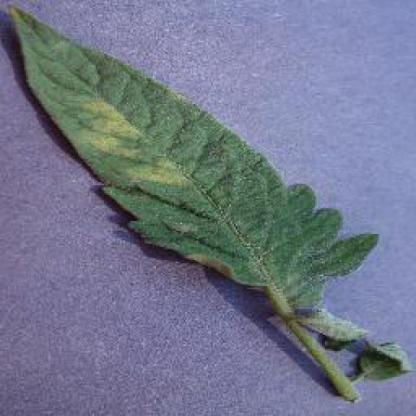Tomato_Leaf_Mold: (5, 6, 381, 283)
